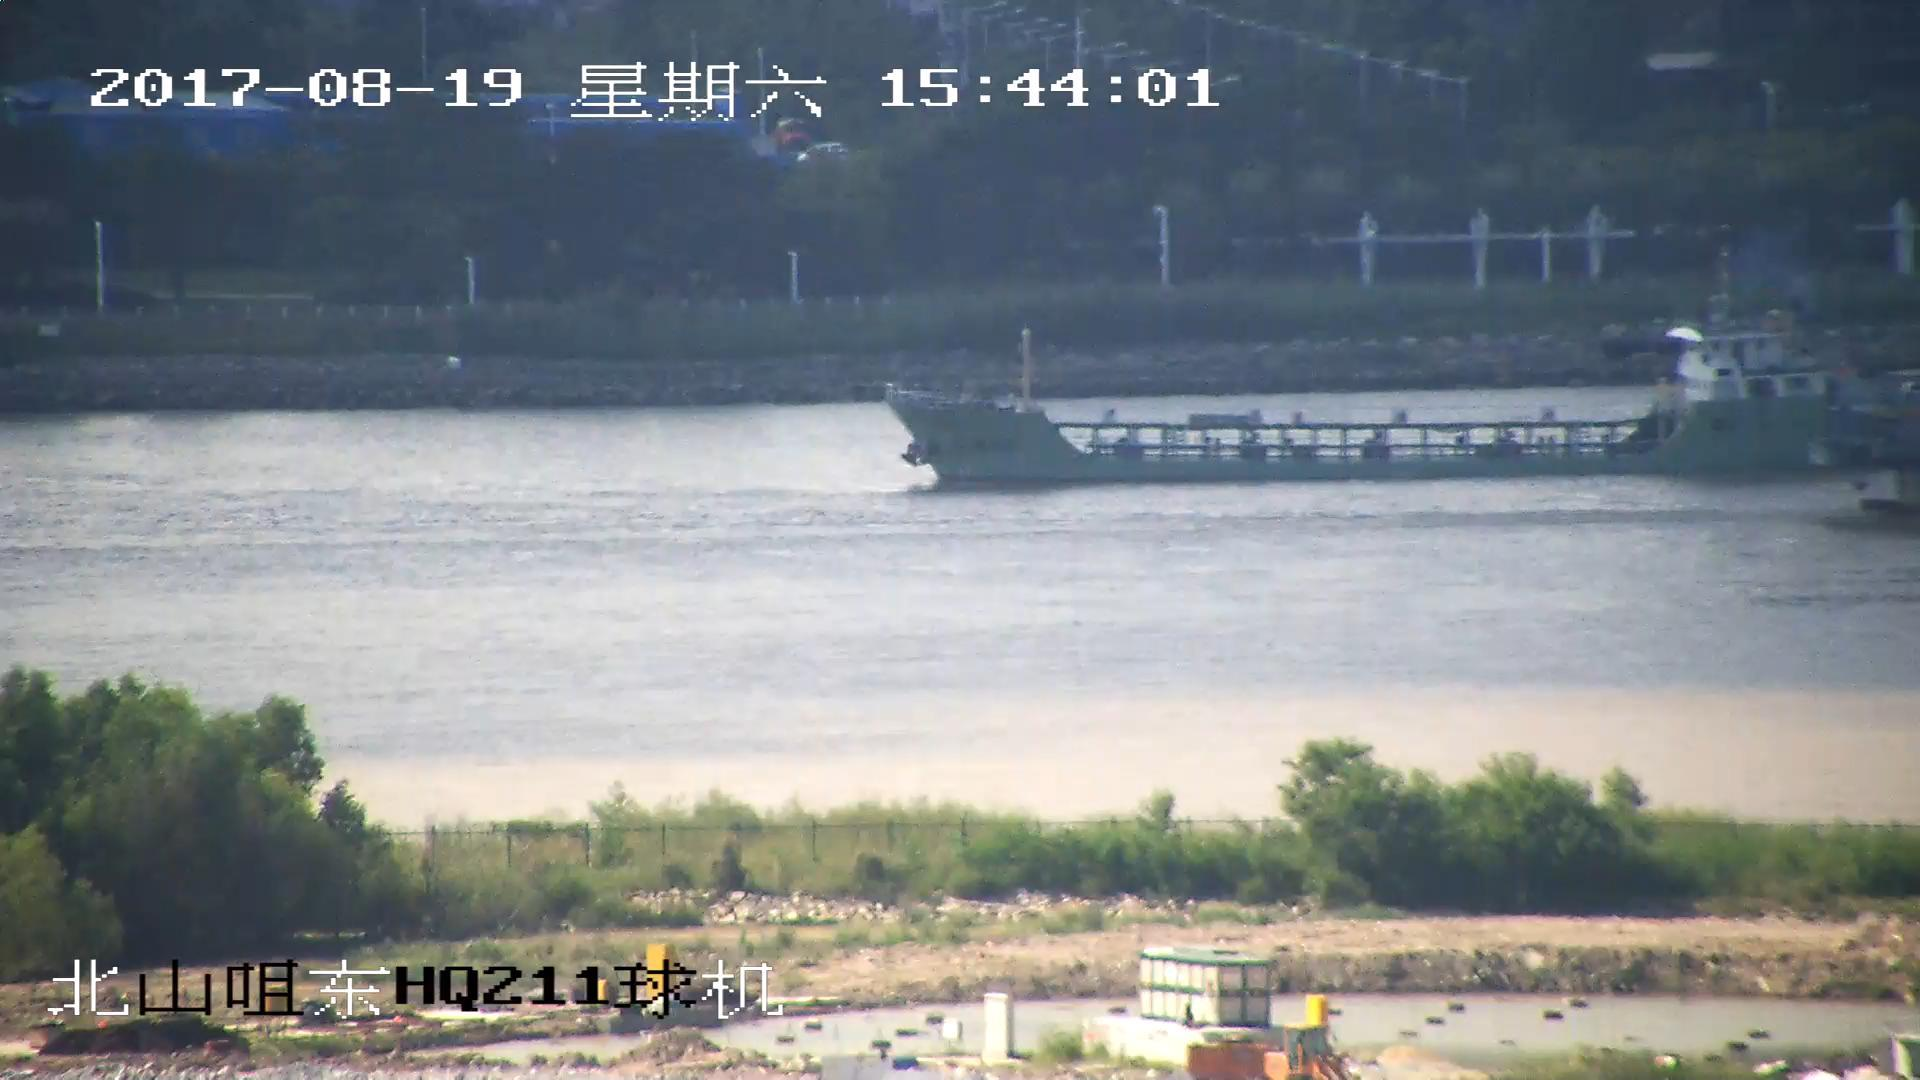Ship: (885, 284, 1920, 487)
